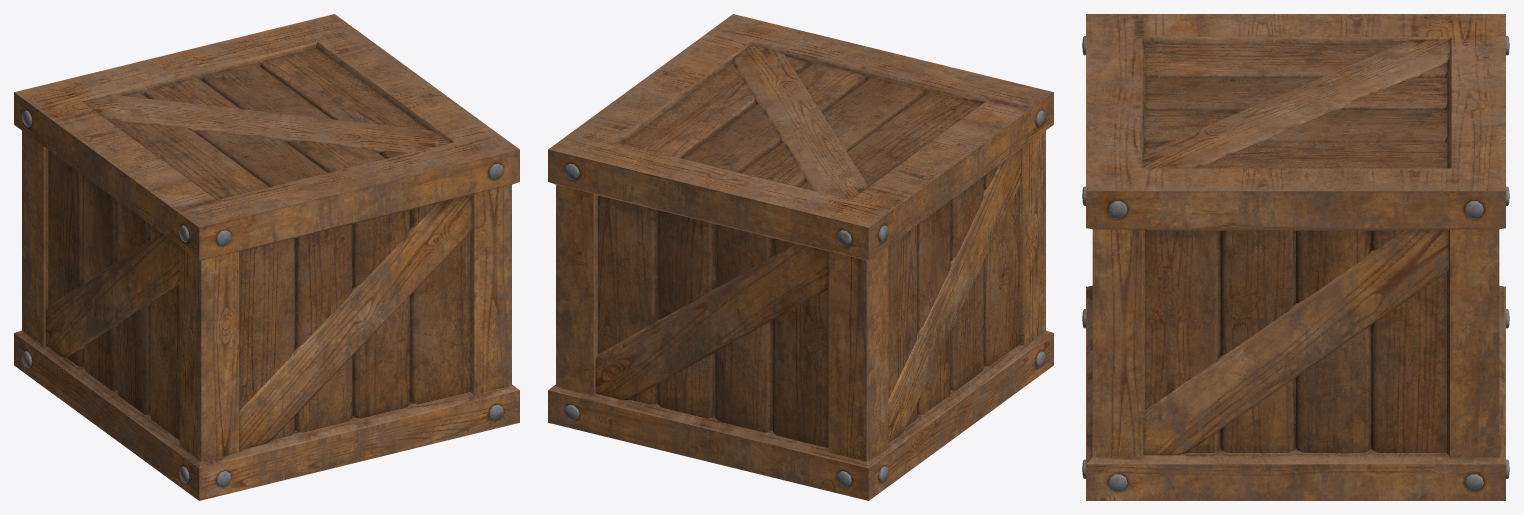
The model's file is CajaMadera.obj.
The picture shows the model from 3 angles, left to right: view 1: azimuth 30°, elevation 25°; view 2: azimuth 150°, elevation 25°; view 3: azimuth 270°, elevation 25°; orthographic projection. The views are drawn at different scales.
Parts seen in each view (by area): view 1: Box_MPolyFull; view 2: Box_MPolyFull; view 3: Box_MPolyFull.
Part boxes in pixels (x1=…): Box_MPolyFull: x1=14, y1=14, x2=519, y2=500; Box_MPolyFull: x1=548, y1=14, x2=1053, y2=500; Box_MPolyFull: x1=1082, y1=14, x2=1509, y2=500.
Bounding box in the file's own units: 3.55 × 2.83 × 3.55.
Materials: 1 (1 with a texture image).
